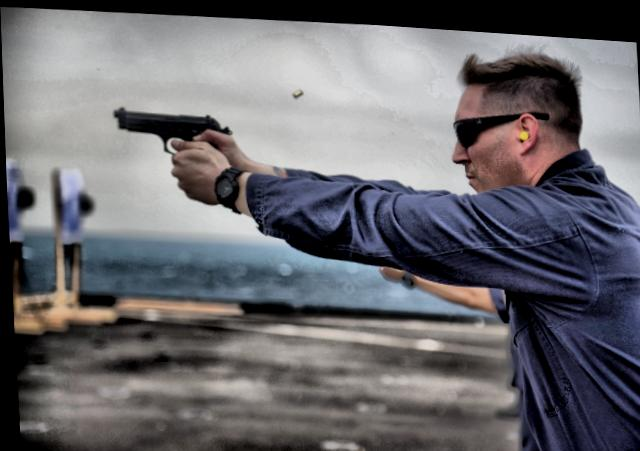pistol: (111, 101, 232, 160)
